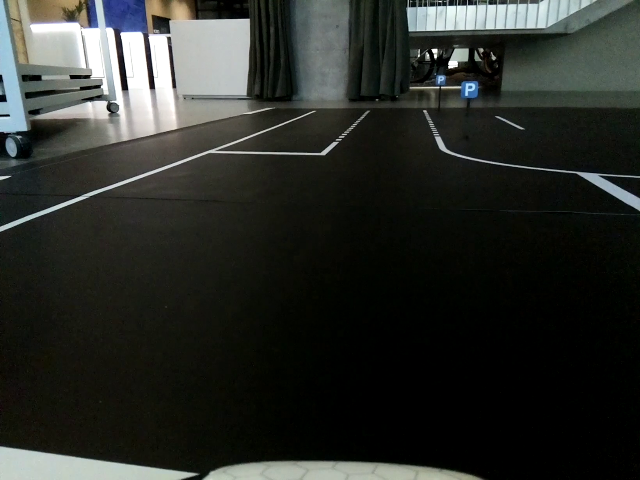park: (462, 81, 477, 99), (437, 76, 447, 85)
